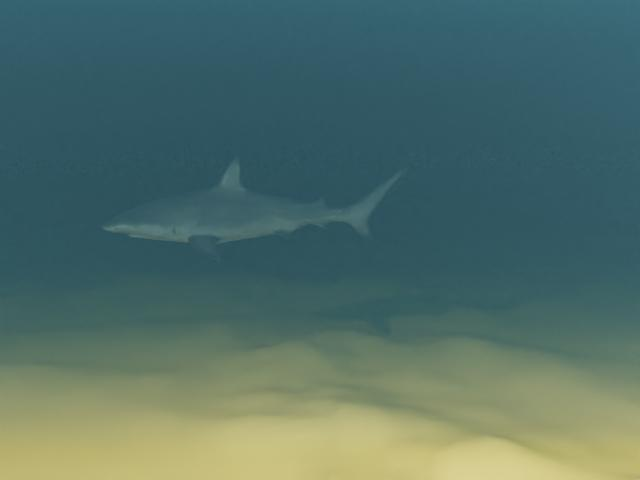Carribean Shark.001: (101, 156, 411, 261)
